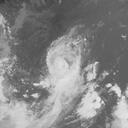cyclone: (44, 26, 105, 127)
